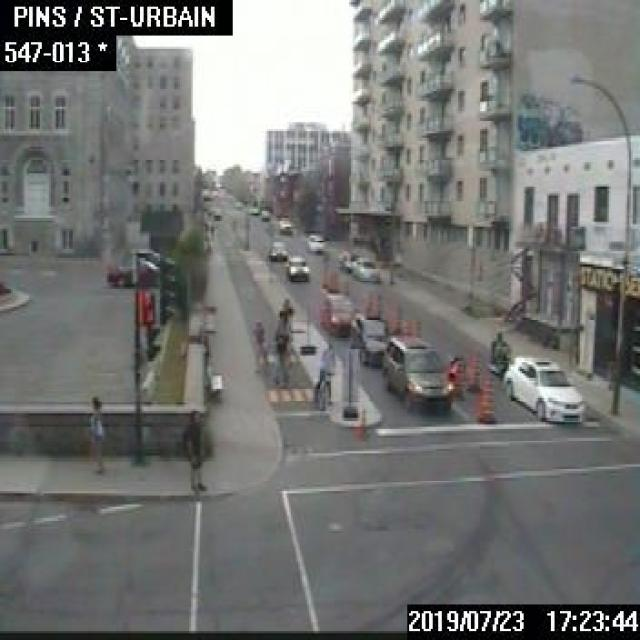construction: (476, 376, 495, 422), (465, 350, 481, 391), (452, 357, 465, 398), (390, 299, 400, 333), (365, 287, 376, 312), (326, 267, 336, 291), (402, 318, 417, 333), (320, 264, 326, 286)
cyclist: (312, 342, 332, 409), (251, 317, 270, 373), (272, 333, 290, 386), (276, 295, 293, 342)
pedestrian: (184, 407, 204, 489), (85, 393, 104, 471)
vehicle: (381, 334, 454, 413), (502, 354, 584, 423), (349, 312, 388, 364), (106, 256, 160, 286), (320, 291, 356, 334), (486, 329, 510, 372), (351, 256, 378, 280), (285, 252, 308, 280), (128, 246, 160, 266), (338, 248, 360, 271), (305, 232, 325, 251), (268, 240, 286, 258), (276, 216, 292, 231), (259, 208, 268, 219)
